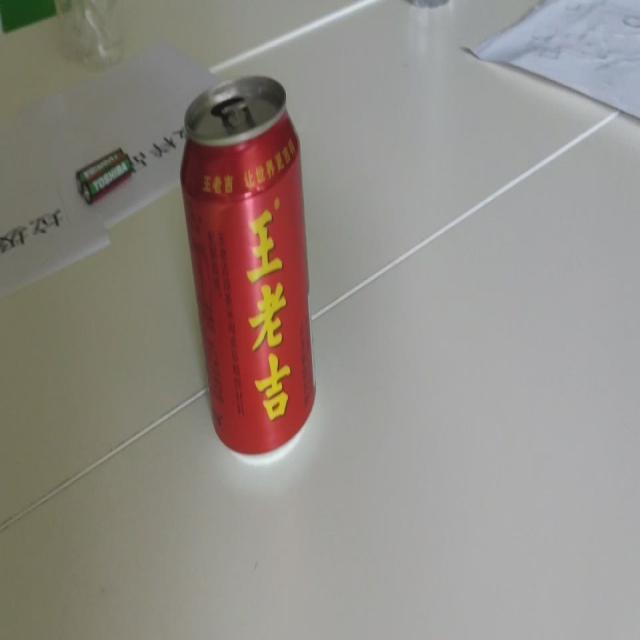can: (179, 78, 315, 456)
